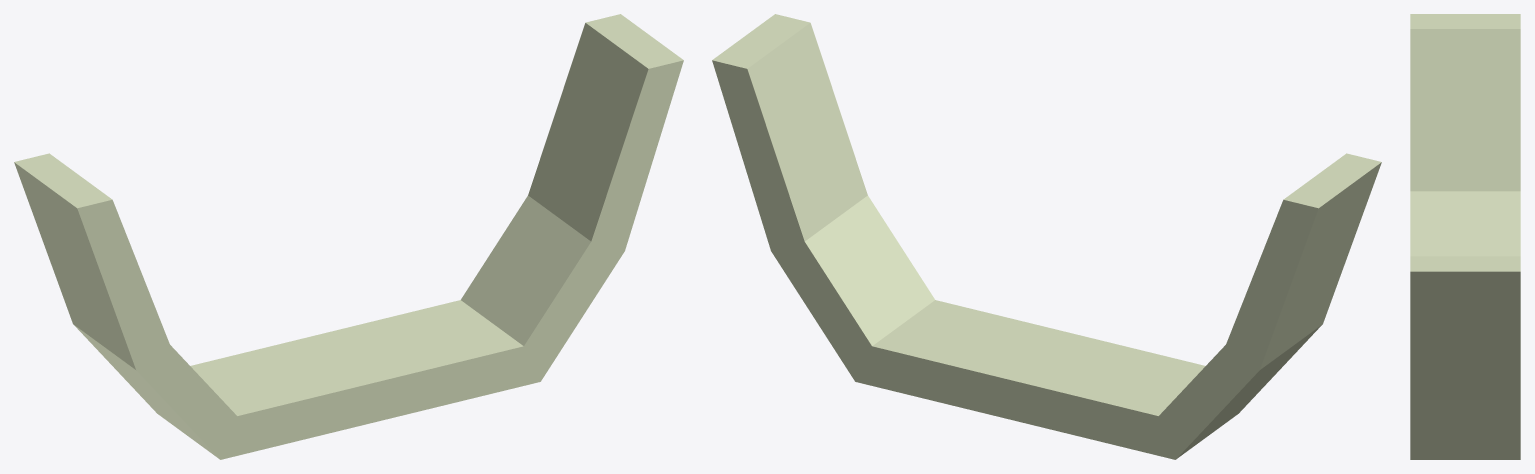
Rendered from bowl.glb.
The picture shows the model from 3 angles, left to right: view 1: azimuth 30°, elevation 25°; view 2: azimuth 150°, elevation 25°; view 3: azimuth 270°, elevation 25°; orthographic projection. The views are drawn at different scales.
Visible parts, largest first — view 1: bowl0; view 2: bowl0; view 3: bowl0.
Part boxes in pixels (box(x1,y1,x2,y2)): bowl0: box(14, 14, 683, 459); bowl0: box(712, 14, 1381, 459); bowl0: box(1410, 14, 1520, 459).
Size of the model in its own units: 0.72 by 0.325 by 0.13.
